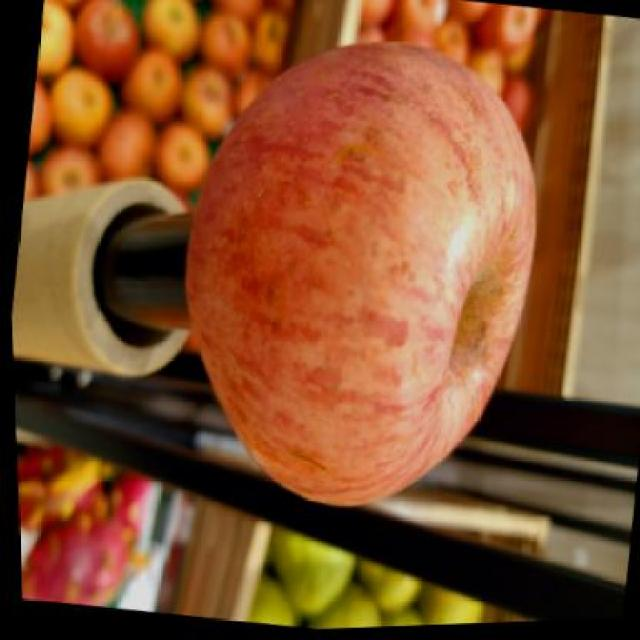Fresh Apple: (181, 39, 535, 511)
